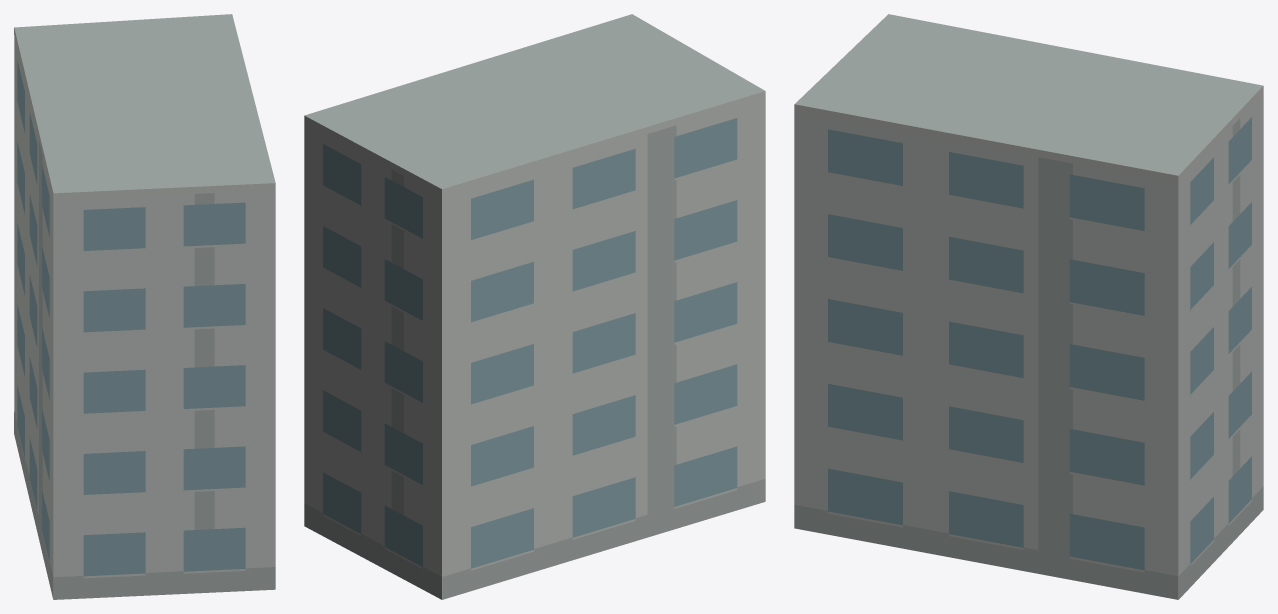
The model's file is survey-upis-32524977.glb.
The picture shows the model from 3 angles, left to right: view 1: azimuth 30°, elevation 25°; view 2: azimuth 150°, elevation 25°; view 3: azimuth 270°, elevation 25°; orthographic projection. The views are drawn at different scales.
Visible parts, largest first — view 1: survey-upis-32524977.tmp; view 2: survey-upis-32524977.tmp; view 3: survey-upis-32524977.tmp.
Boxes of the visible parts, x1,y1,x2,y2 form: survey-upis-32524977.tmp: (14,14,275,599); survey-upis-32524977.tmp: (304,14,765,599); survey-upis-32524977.tmp: (794,14,1263,599).
Bounding box in the file's own units: 11.38 × 13.9 × 13.94.
